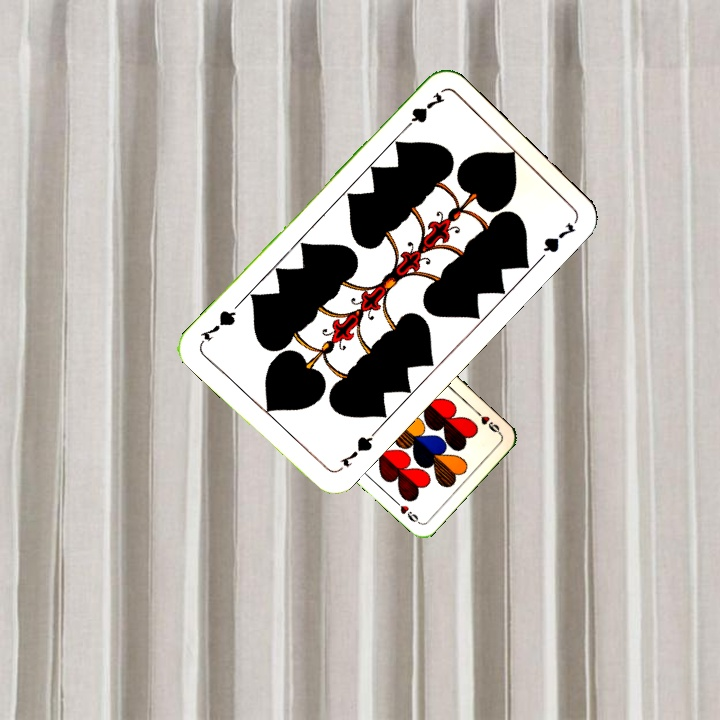G7: (397, 88, 447, 135), (336, 427, 379, 470)
H9: (470, 406, 503, 437)
